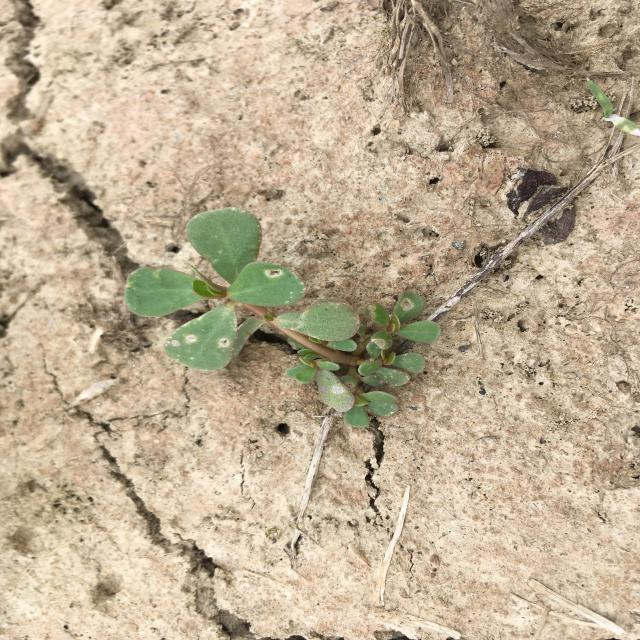Purslane: (125, 207, 442, 427)
